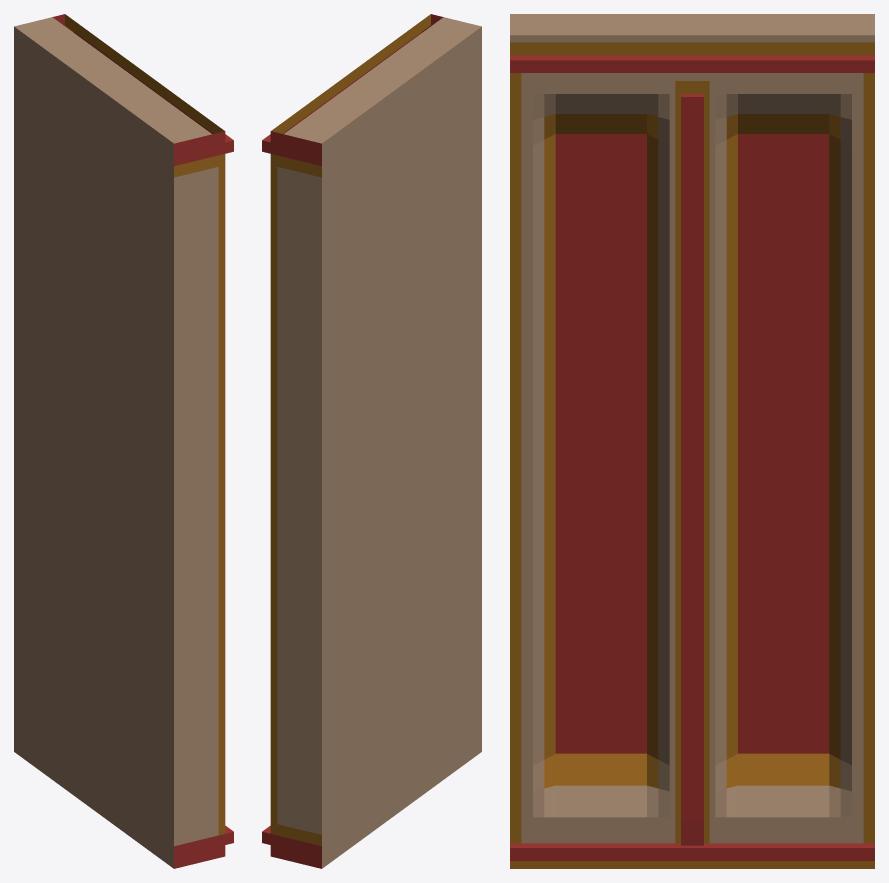
File: elevatorDoorHalfHorizontal.fbx
The picture shows the model from 3 angles, left to right: view 1: azimuth 30°, elevation 25°; view 2: azimuth 150°, elevation 25°; view 3: azimuth 270°, elevation 25°; orthographic projection. The views are drawn at different scales.
Visible parts, largest first — view 1: elevatorDoorHalfHorizontal; view 2: elevatorDoorHalfHorizontal; view 3: elevatorDoorHalfHorizontal.
Boxes of the visible parts, x1,y1,x2,y2 form: elevatorDoorHalfHorizontal: [14, 14, 233, 868]; elevatorDoorHalfHorizontal: [262, 14, 481, 868]; elevatorDoorHalfHorizontal: [510, 14, 874, 868].
Bounding box in the file's own units: 21.61 × 250 × 100.
